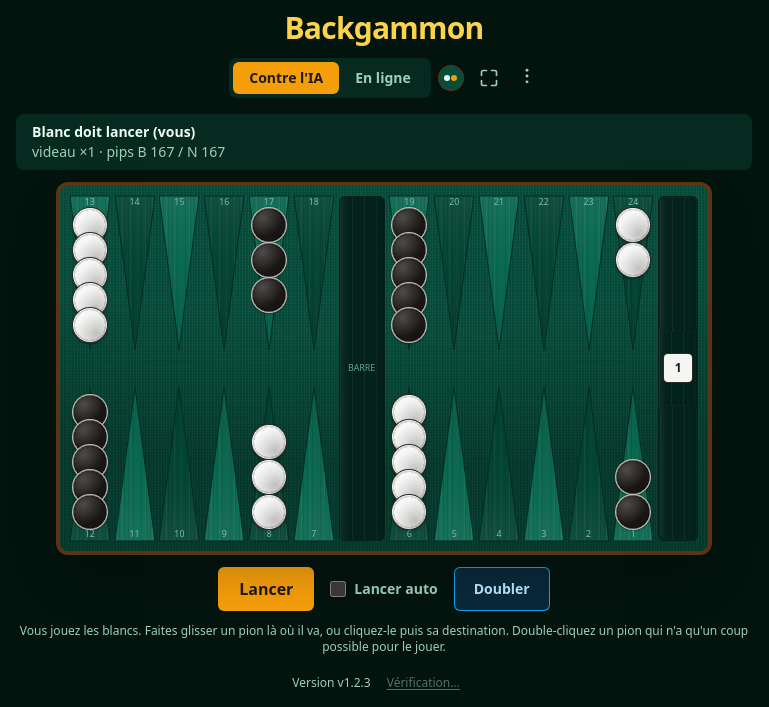
Scenario: the abandon-the-game action › lives behind the header menu whether the screen is roomy (true) or not
Click the button named "Actions": [527, 76] box [515,64,539,88]
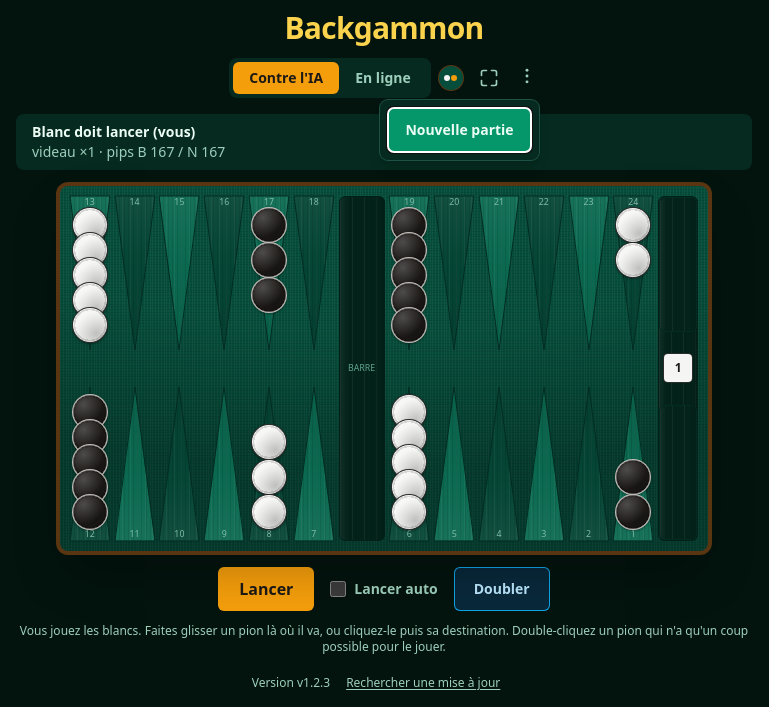
Now the button "Nouvelle partie" is shown, box [388,108,531,152]
